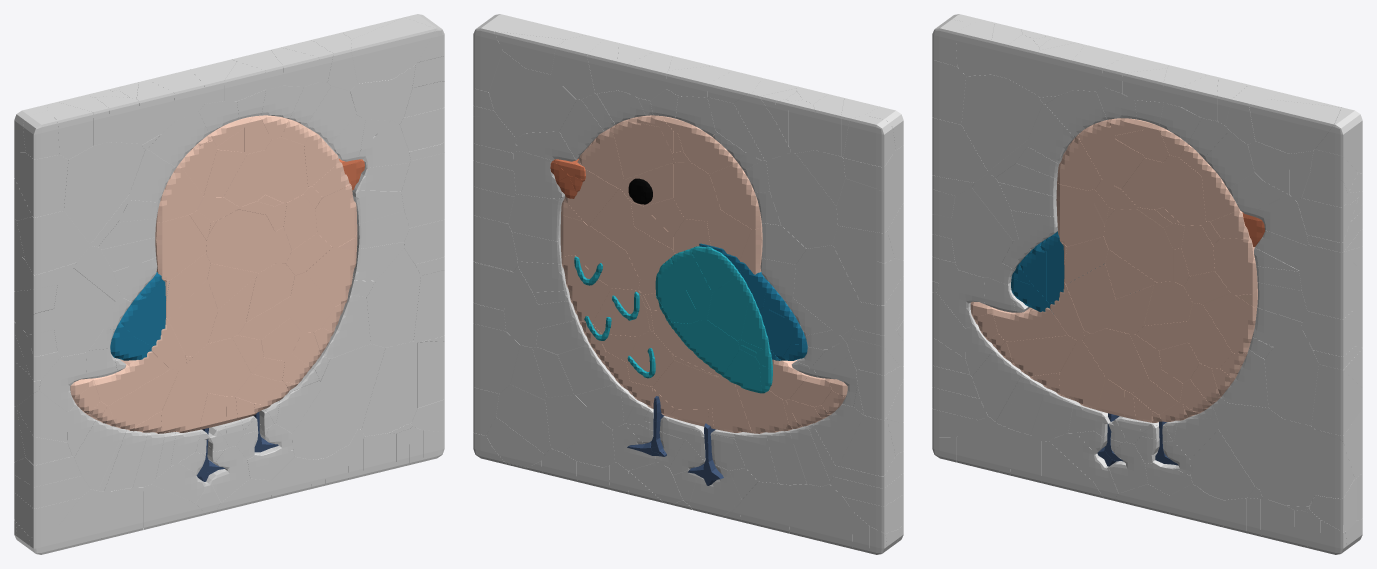
Rendered from Bird.fbx.
The picture shows the model from 3 angles, left to right: view 1: azimuth 30°, elevation 25°; view 2: azimuth 150°, elevation 25°; view 3: azimuth 330°, elevation 25°; orthographic projection.
Visible parts, largest first — view 1: Cube_cell.198, Cube_cell.153, Cube_cell.194, Cube_cell.069, Cube_cell.038, Body_cell.097, Cube_cell.142, Cube_cell.012, Cube_cell.156, Cube_cell.094, Cube_cell.159, Body_cell.043 (+114 smaller); view 2: Cube_cell.188, Cube_cell.113, Cube_cell.053, Body_cell.034, Cube_cell.176, Body_cell.042, Cube_cell.152, Cube_cell.128, Cube_cell.120, Body_cell.016, Cube_cell.021, Body_cell.057 (+116 smaller); view 3: Cube_cell.198, Cube_cell.153, Cube_cell.194, Cube_cell.069, Cube_cell.038, Cube_cell.159, Body_cell.097, Cube_cell.142, Cube_cell.156, Cube_cell.037, Body_cell.043, Cube_cell.012 (+110 smaller).
Boxes of the visible parts, box(x1,y1,x2,y2) form: Cube_cell.198: box(64, 142, 144, 244); Cube_cell.153: box(366, 248, 420, 347); Cube_cell.194: box(361, 341, 417, 436); Cube_cell.069: box(351, 17, 435, 83); Cube_cell.038: box(54, 269, 115, 357); Body_cell.097: box(206, 209, 275, 272); Cube_cell.142: box(320, 344, 385, 429); Cube_cell.012: box(17, 210, 90, 274); Cube_cell.156: box(292, 390, 357, 459); Cube_cell.094: box(14, 152, 68, 217); Cube_cell.159: box(401, 153, 444, 227); Body_cell.043: box(185, 338, 251, 396); Cube_cell.188: box(766, 152, 837, 248); Cube_cell.113: box(793, 245, 859, 336); Cube_cell.053: box(473, 323, 519, 393); Body_cell.034: box(613, 121, 672, 179); Cube_cell.176: box(526, 68, 576, 132); Body_cell.042: box(575, 225, 639, 290); Cube_cell.152: box(496, 384, 550, 453); Cube_cell.128: box(834, 247, 903, 305); Cube_cell.120: box(838, 416, 895, 476); Body_cell.016: box(652, 360, 720, 409); Cube_cell.021: box(489, 51, 525, 137); Body_cell.057: box(673, 162, 720, 221); Cube_cell.198: box(961, 74, 1042, 171); Cube_cell.153: box(1264, 328, 1318, 425); Cube_cell.194: box(1259, 419, 1315, 506); Cube_cell.069: box(1249, 99, 1341, 153); Cube_cell.038: box(951, 187, 1012, 277); Cube_cell.159: box(1299, 244, 1362, 319); Body_cell.097: box(1104, 209, 1172, 282); Cube_cell.142: box(1218, 403, 1283, 488); Cube_cell.156: box(1190, 430, 1255, 500); Cube_cell.037: box(1311, 364, 1362, 435); Body_cell.043: box(1083, 328, 1149, 393); Cube_cell.012: box(932, 117, 988, 182).
Bounding box in the file's own units: 10 × 0.9575 × 10.
